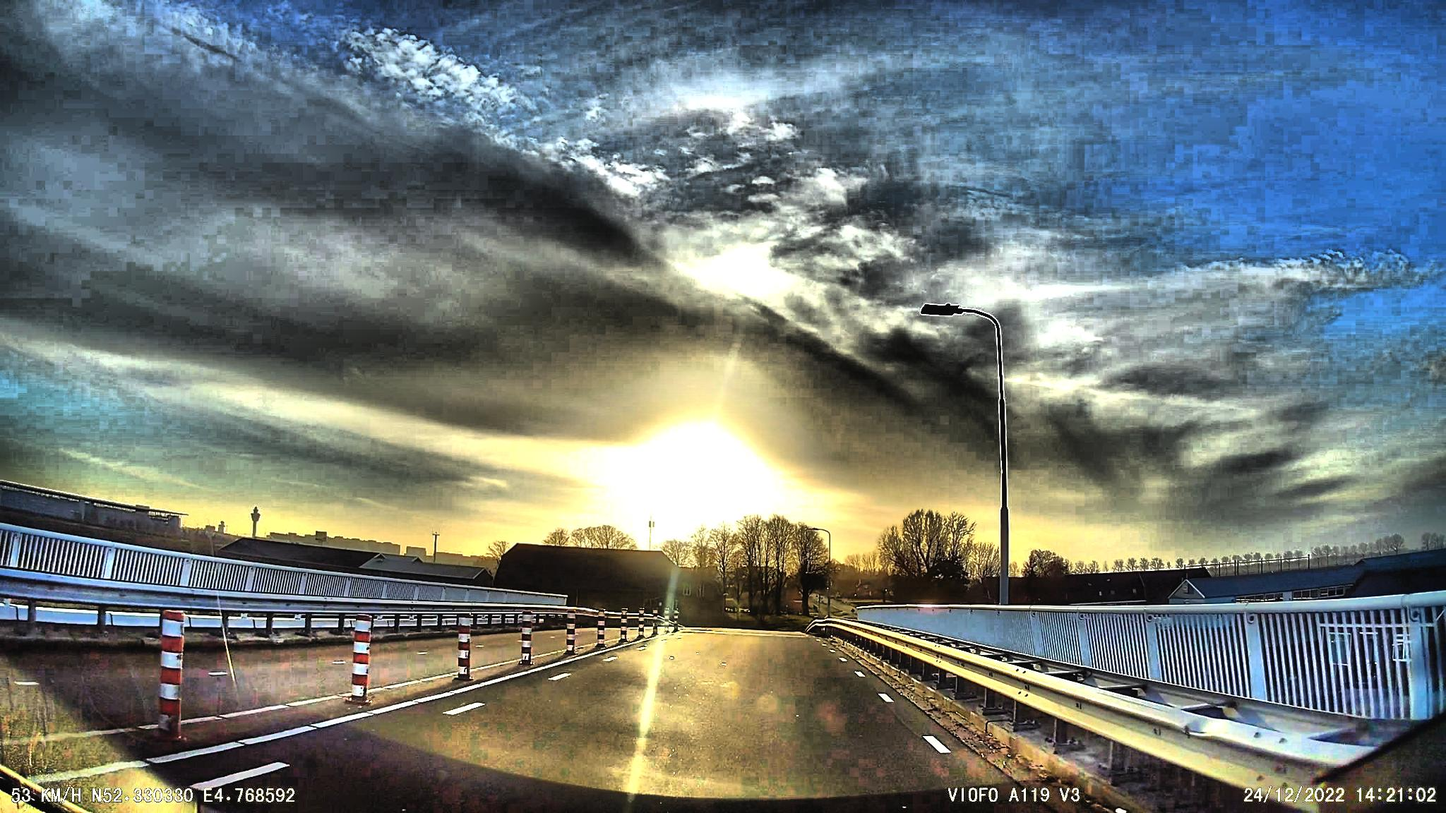Roads: (138, 628, 1122, 813)
